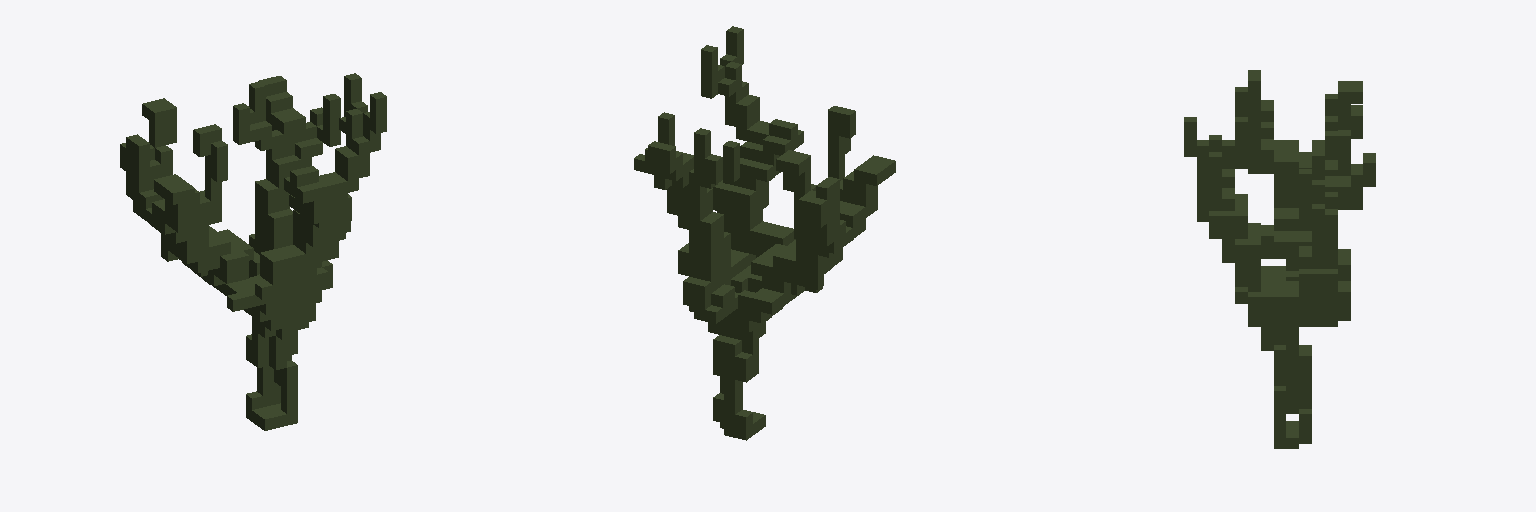
3 renders of one model, left to right at view 1: azimuth 30°, elevation 25°; view 2: azimuth 150°, elevation 25°; view 3: azimuth 270°, elevation 25°, orthographic.
Parts seen in each view (by area): view 1: object 1; view 2: object 1; view 3: object 1.
Boxes of the visible parts, <box> form: object 1: <box>120,73,386,430</box>; object 1: <box>634,26,895,440</box>; object 1: <box>1184,70,1375,448</box>.
Bounding box in the file's own units: 1.9 × 3 × 1.5.
1 materials, 1 textured.